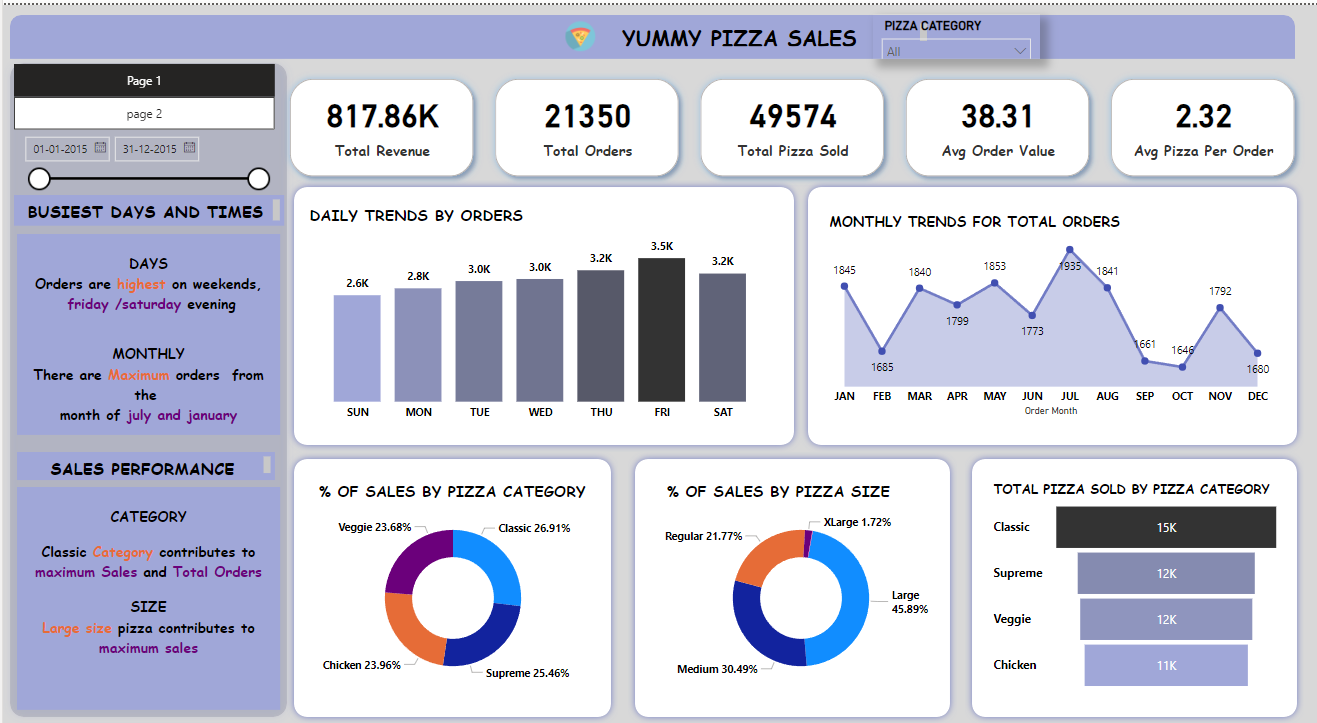

This screenshot's page, from the dashboard's own definition file:
{"tool":"powerbi","page":{"name":"Page 1","canvas":[1500,820],"ordinal":0},"visuals":[{"type":"shape","box":[0,58.1,331.7,761.4],"z":0},{"type":"cardVisual","fields":{"Data":["pizza pizza_sales.Total Revenue","pizza pizza_sales.Total Orders","pizza pizza_sales.Total Pizza Sold","pizza pizza_sales.Avg Order Value","pizza pizza_sales.Avg Pizza Per Order"]},"box":[310,67.2,1180.9,145.9],"z":1000},{"type":"shape","box":[8,11.4,1464.7,50.2],"z":2000},{"type":"textbox","box":[629.2,16,428.6,36.5],"z":3000},{"type":"image","box":[604.1,13.7,108.3,44.5],"z":4000},{"type":"shape","box":[323.7,199.5,585.9,310],"z":5000},{"type":"columnChart","title":"DAILY TRENDS BY ORDERS","fields":{"Y":["pizza pizza_sales.Total Orders"],"Category":["pizza pizza_sales.Oeder Day"]},"box":[344.2,226.8,536.9,255.3],"z":6000},{"type":"shape","box":[909.6,199.5,573.3,310],"z":7000},{"type":"areaChart","title":"MONTHLY TRENDS FOR TOTAL ORDERS","fields":{"Category":["pizza pizza_sales.Order Month"],"Y":["pizza pizza_sales.Total Orders"]},"box":[936.9,234.8,515.2,238.2],"z":8000},{"type":"textbox","box":[12.5,216.6,307.8,35.3],"z":9000},{"type":"shape","box":[323.7,509.5,377.3,310],"z":10000},{"type":"shape","box":[712.4,509.5,375,310],"z":11000},{"type":"shape","box":[1096.5,509.5,386.4,310],"z":12000},{"type":"donutChart","title":"% OF SALES BY PIZZA CATEGORY","fields":{"Category":["pizza pizza_sales.pizza_category"],"Y":["pizza pizza_sales.Total Revenue"]},"box":[354.5,541.4,316.9,245.1],"z":13000},{"type":"donutChart","title":"% OF SALES BY PIZZA SIZE","fields":{"Category":["pizza pizza_sales.pizza_size"],"Y":["pizza pizza_sales.Total Revenue"]},"box":[751.1,541.4,316.9,245.1],"z":14000},{"type":"funnel","title":"TOTAL PIZZA SOLD BY PIZZA CATEGORY","fields":{"Category":["pizza pizza_sales.pizza_category"],"Y":["pizza pizza_sales.Total Pizza Sold"]},"box":[1123.9,541.4,337.4,245.1],"z":15000},{"type":"textbox","box":[16,261,299.8,229.1],"z":16000},{"type":"textbox","box":[16,549.4,299.8,254.2],"z":17000},{"type":"textbox","box":[16,509.5,294.1,31.9],"z":18000},{"type":"slicer","fields":{"Values":["pizza pizza_sales.pizza_category"]},"box":[991.6,10.3,190.3,51.3],"z":19000},{"type":"slicer","fields":{"Values":["pizza pizza_sales.order_date"]},"box":[12.5,140.2,299.8,72.9],"z":20000},{"type":"pageNavigator","box":[12.5,67.2,297.5,37.6],"z":20001},{"type":"pageNavigator","box":[12.5,104.9,297.5,37.6],"z":20002}]}

Visuals, with their boxes in screenshot pixels (x1, y1, x2, y2), scaled from the page's 1500x820 canvas onto the 1317x723 screenshot:
shape: 0 51 291 722
cardVisual - pizza pizza_sales.Total Revenue x pizza pizza_sales.Total Orders: 272 59 1309 188
shape: 7 10 1293 54
textbox: 552 14 929 46
image: 530 12 625 51
shape: 284 176 799 449
"DAILY TRENDS BY ORDERS" columnChart: 302 200 774 425
shape: 799 176 1302 449
"MONTHLY TRENDS FOR TOTAL ORDERS" areaChart: 823 207 1275 417
textbox: 11 191 281 222
shape: 284 449 615 722
shape: 625 449 955 722
shape: 963 449 1302 722
"% OF SALES BY PIZZA CATEGORY" donutChart: 311 477 589 693
"% OF SALES BY PIZZA SIZE" donutChart: 659 477 938 693
"TOTAL PIZZA SOLD BY PIZZA CATEGORY" funnel: 987 477 1283 693
textbox: 14 230 277 432
textbox: 14 484 277 709
textbox: 14 449 272 477
slicer - pizza pizza_sales.pizza_category: 871 9 1038 54
slicer - pizza pizza_sales.order_date: 11 124 274 188
pageNavigator: 11 59 272 92
pageNavigator: 11 92 272 126
